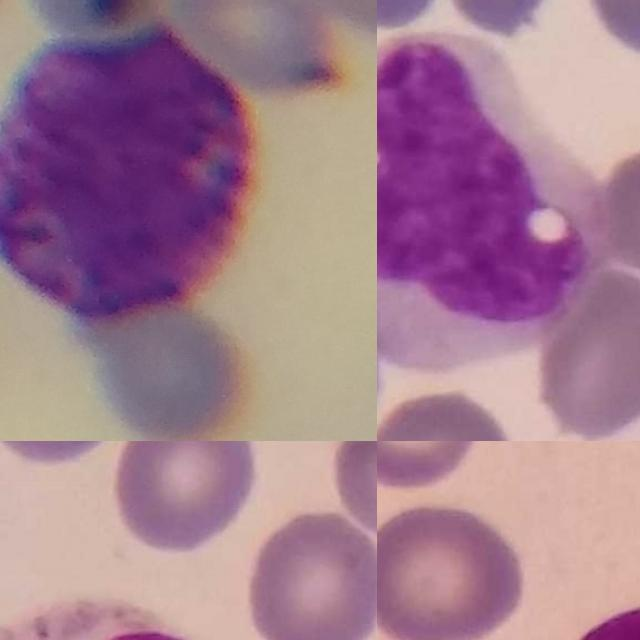Basophil: (0, 26, 256, 325)
Monocyte: (377, 35, 604, 368)
